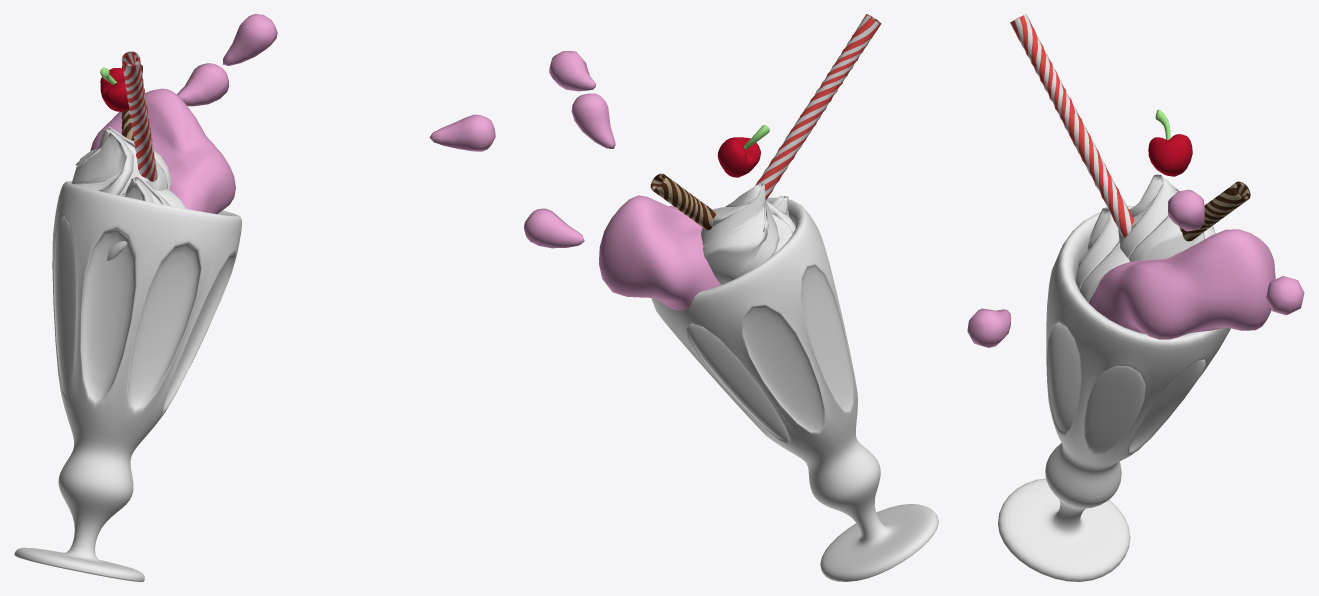
File: milkshake.fbx
The picture shows the model from 3 angles, left to right: view 1: azimuth 30°, elevation 25°; view 2: azimuth 150°, elevation 25°; view 3: azimuth 270°, elevation 25°; orthographic projection. The views are drawn at different scales.
Parts seen in each view (by area): view 1: Cube, Sphere, Cube.001, Cylinder, Cube.007, Cube.006, Cube.004, Cube.005, Cube.002; view 2: Cube, Sphere, Cube.001, Cylinder, Cube.004, Cube.006, Cylinder.001, Cube.007, Cube.002; view 3: Cube, Sphere, Cylinder, Cube.001, Cube.005, Cube.002, Cube.007, Cylinder.001, Cube.006, Cube.004.
Boxes of the visible parts, x1,y1,x2,y2 form: Cube: [14, 181, 241, 581]; Sphere: [90, 88, 235, 213]; Cube.001: [71, 127, 171, 196]; Cylinder: [121, 51, 157, 181]; Cube.007: [429, 114, 495, 151]; Cube.006: [222, 14, 277, 65]; Cube.004: [177, 63, 229, 106]; Cube.005: [107, 176, 186, 260]; Cube.002: [100, 68, 128, 111]; Cube: [651, 197, 938, 581]; Sphere: [599, 195, 720, 310]; Cube.001: [701, 183, 795, 284]; Cylinder: [755, 14, 881, 200]; Cube.004: [524, 208, 584, 248]; Cube.006: [571, 93, 615, 148]; Cylinder.001: [650, 173, 716, 230]; Cube.007: [549, 51, 596, 91]; Cube.002: [717, 137, 760, 177]; Cube: [998, 206, 1230, 581]; Sphere: [1089, 229, 1275, 339]; Cylinder: [1010, 14, 1133, 237]; Cube.001: [1118, 174, 1215, 261]; Cube.005: [1076, 207, 1129, 302]; Cube.002: [1148, 134, 1192, 176]; Cube.007: [967, 308, 1011, 347]; Cylinder.001: [1179, 181, 1250, 241]; Cube.006: [1168, 189, 1204, 231]; Cube.004: [1266, 276, 1304, 315].
Bounding box in the file's own units: 958 × 1168 × 639.
